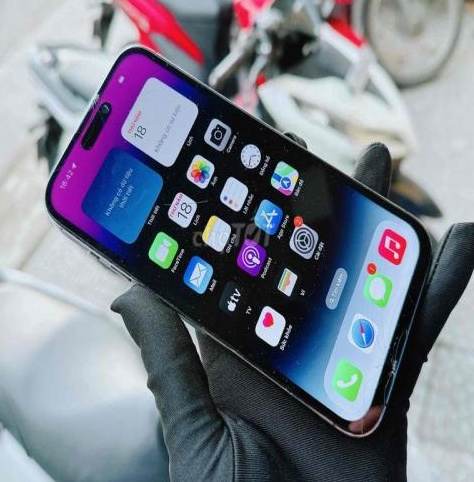physical_damage: (150, 178, 225, 217), (364, 282, 412, 318), (80, 85, 123, 124), (347, 397, 386, 440), (373, 354, 413, 395), (365, 316, 408, 354), (354, 354, 373, 388)
